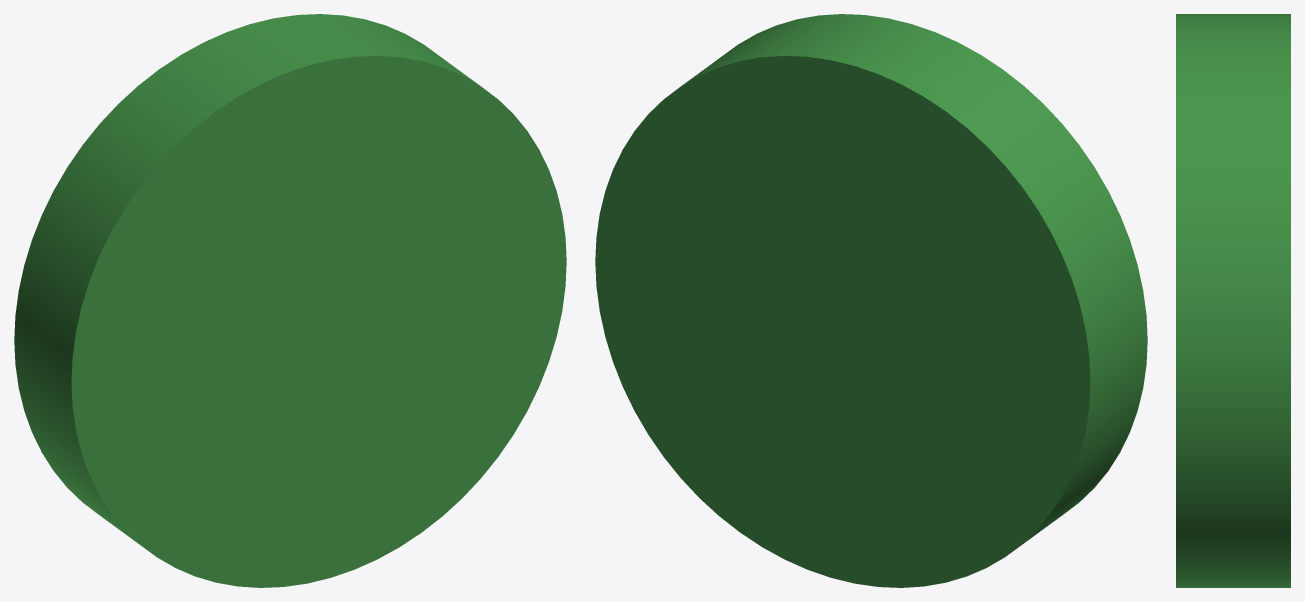
The model's file is flidar_visual.obj.
3 renders of one model, left to right at view 1: azimuth 30°, elevation 25°; view 2: azimuth 150°, elevation 25°; view 3: azimuth 270°, elevation 25°, orthographic.
Parts seen in each view (by area): view 1: flidar; view 2: flidar; view 3: flidar.
Boxes of the visible parts, bbox=[...] form: flidar: bbox=[14, 14, 566, 587]; flidar: bbox=[595, 14, 1147, 587]; flidar: bbox=[1176, 14, 1290, 587].
Size of the model in its own units: 5 by 4.99 by 1.
